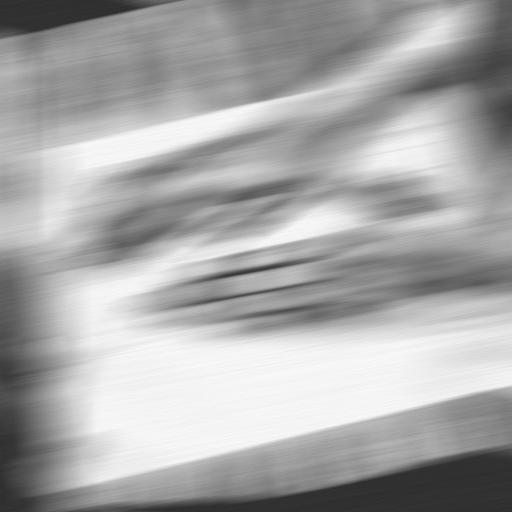bottom_right: (406, 62, 436, 65)
door: (20, 111, 508, 364)
top_left: (42, 486, 73, 491)
top_right: (31, 146, 61, 149)
